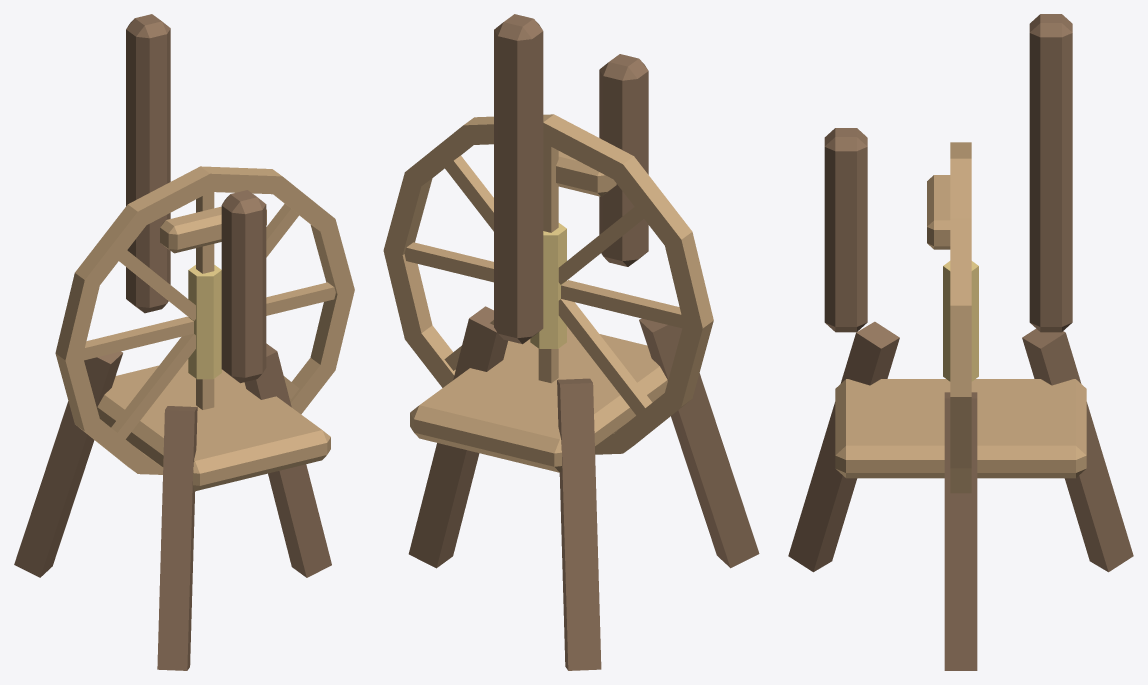
File: town_spinning_wheel.glb
3 renders of one model, left to right at view 1: azimuth 30°, elevation 25°; view 2: azimuth 150°, elevation 25°; view 3: azimuth 270°, elevation 25°, orthographic. The views are drawn at different scales.
Parts seen in each view (by area): view 1: world; view 2: world; view 3: world.
Boxes of the visible parts, <box> form: world: <box>14,14,354,670</box>; world: <box>383,14,759,670</box>; world: <box>788,14,1133,670</box>.
Bounding box in the file's own units: 1.1 × 2 × 1.06.
